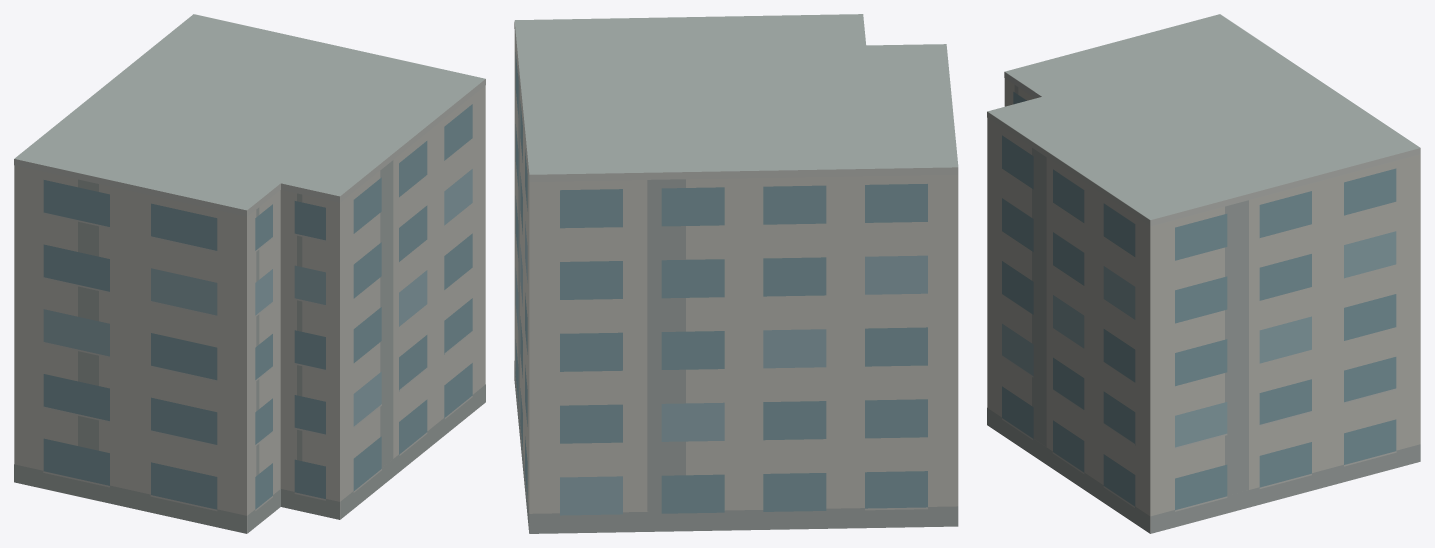
File: residential-0432e926-2c50-4292-b3ab-8165ddc3eee8.glb
3 renders of one model, left to right at view 1: azimuth 30°, elevation 25°; view 2: azimuth 150°, elevation 25°; view 3: azimuth 270°, elevation 25°, orthographic. The views are drawn at different scales.
Visible parts, largest first — view 1: residential-0432e926-2c50-4292-b3ab-8165ddc3eee8.tmp; view 2: residential-0432e926-2c50-4292-b3ab-8165ddc3eee8.tmp; view 3: residential-0432e926-2c50-4292-b3ab-8165ddc3eee8.tmp.
Boxes of the visible parts, x1,y1,x2,y2 form: residential-0432e926-2c50-4292-b3ab-8165ddc3eee8.tmp: [14, 14, 485, 533]; residential-0432e926-2c50-4292-b3ab-8165ddc3eee8.tmp: [514, 14, 958, 533]; residential-0432e926-2c50-4292-b3ab-8165ddc3eee8.tmp: [987, 14, 1420, 533].
Size of the model in its own units: 17.25 by 12.23 by 15.33.
